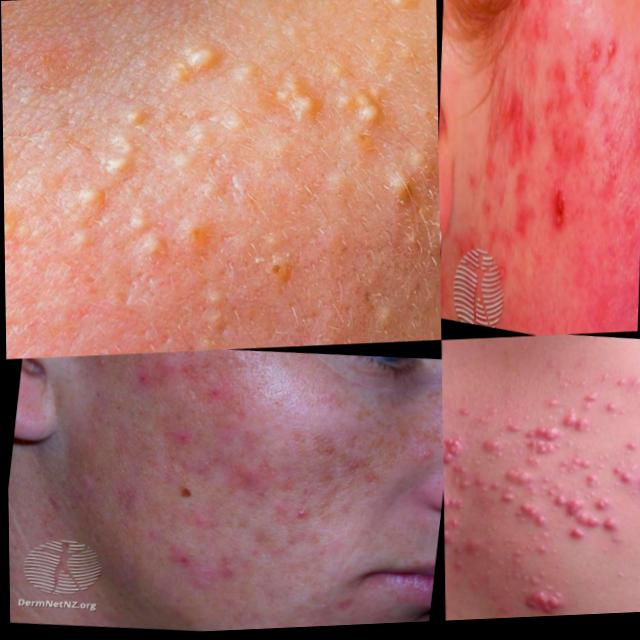6: (441, 529, 464, 555)
7: (48, 176, 185, 274), (372, 146, 438, 271), (82, 90, 156, 186), (1, 126, 43, 257), (271, 47, 325, 142), (153, 35, 232, 95), (333, 79, 403, 146)
8: (209, 553, 244, 590), (163, 549, 201, 573), (407, 447, 441, 473)
9: (606, 41, 618, 74)
blackheads: (128, 352, 181, 399), (546, 496, 601, 540), (498, 95, 527, 176), (520, 427, 564, 462), (514, 503, 552, 536), (526, 590, 565, 622), (512, 203, 536, 250), (498, 464, 535, 493), (577, 75, 596, 130), (549, 189, 566, 250), (441, 484, 466, 517), (543, 66, 567, 98), (522, 127, 541, 166), (567, 134, 585, 173), (440, 440, 462, 471), (599, 127, 616, 165), (478, 196, 493, 238), (550, 131, 563, 169), (594, 499, 608, 517)
